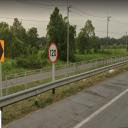speed_limit_120: (48, 41, 58, 64)
